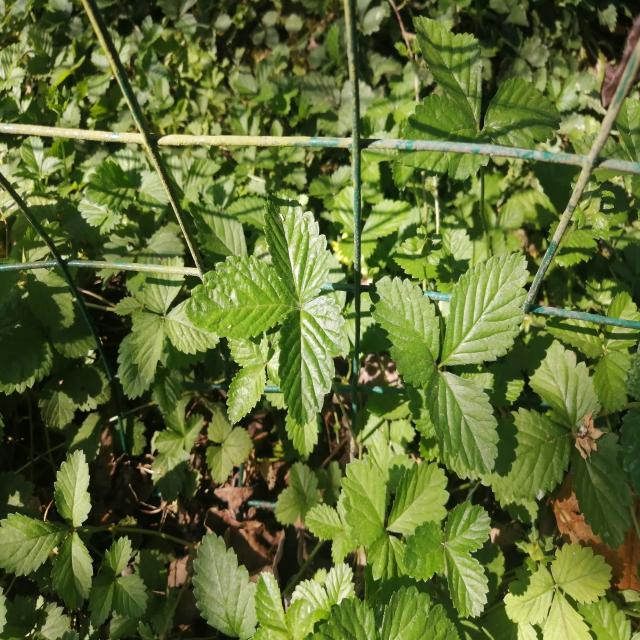Mock_strawberry: (171, 203, 376, 440), (367, 230, 538, 457)
